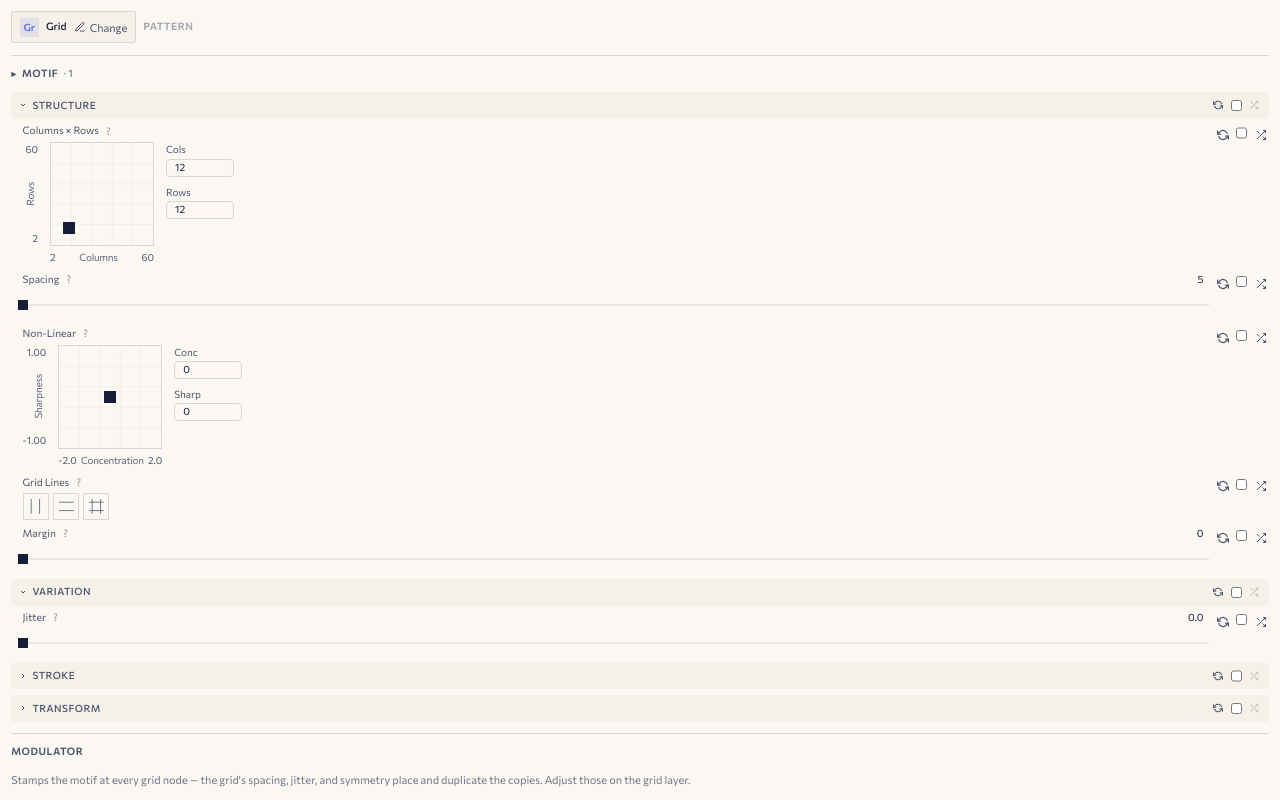
Scenario: MotifDevice › resolves a CUSTOM glyphRef for the row (chip value + thumbnail path)
Click the button with test id "motif-toggle" at point(40, 73), box 11,67 -> 1269,81
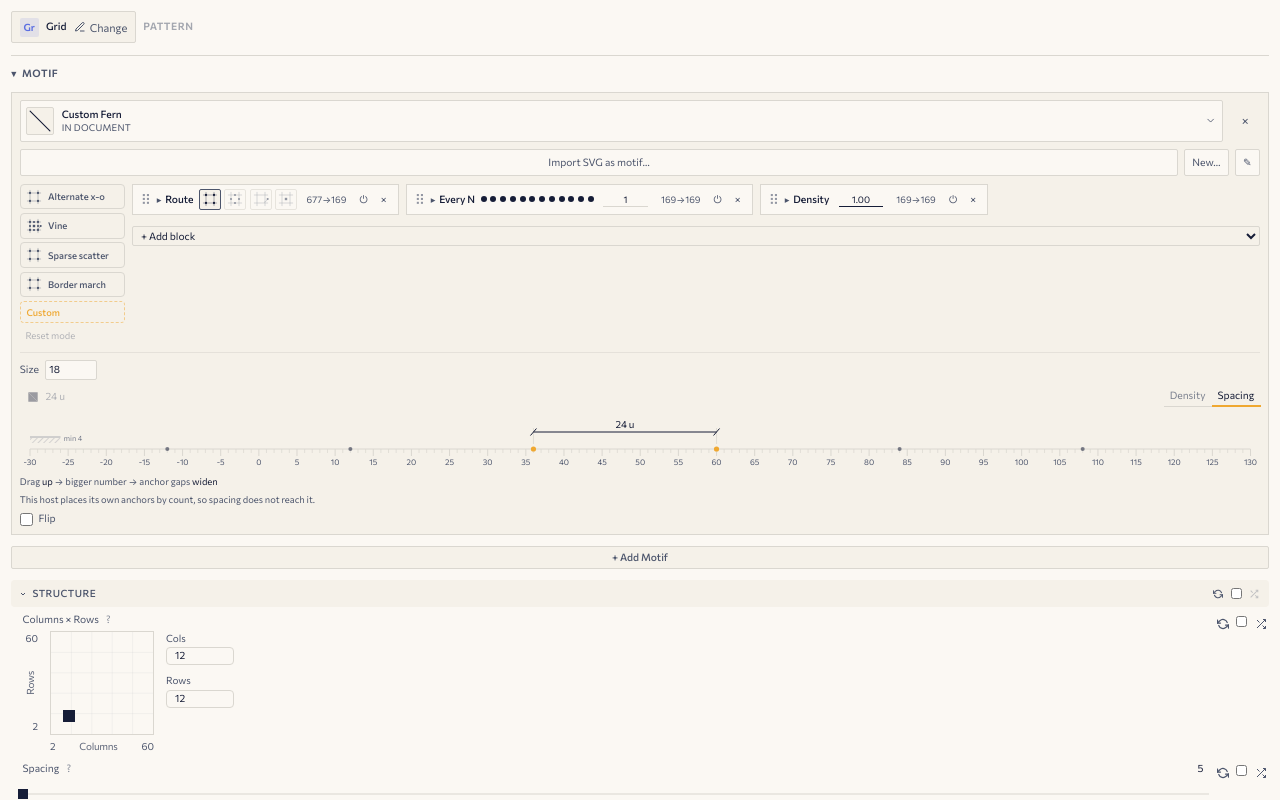
Now the button with test id "motif-glyph" shows "Custom Fern", box 20,100 -> 1223,142
